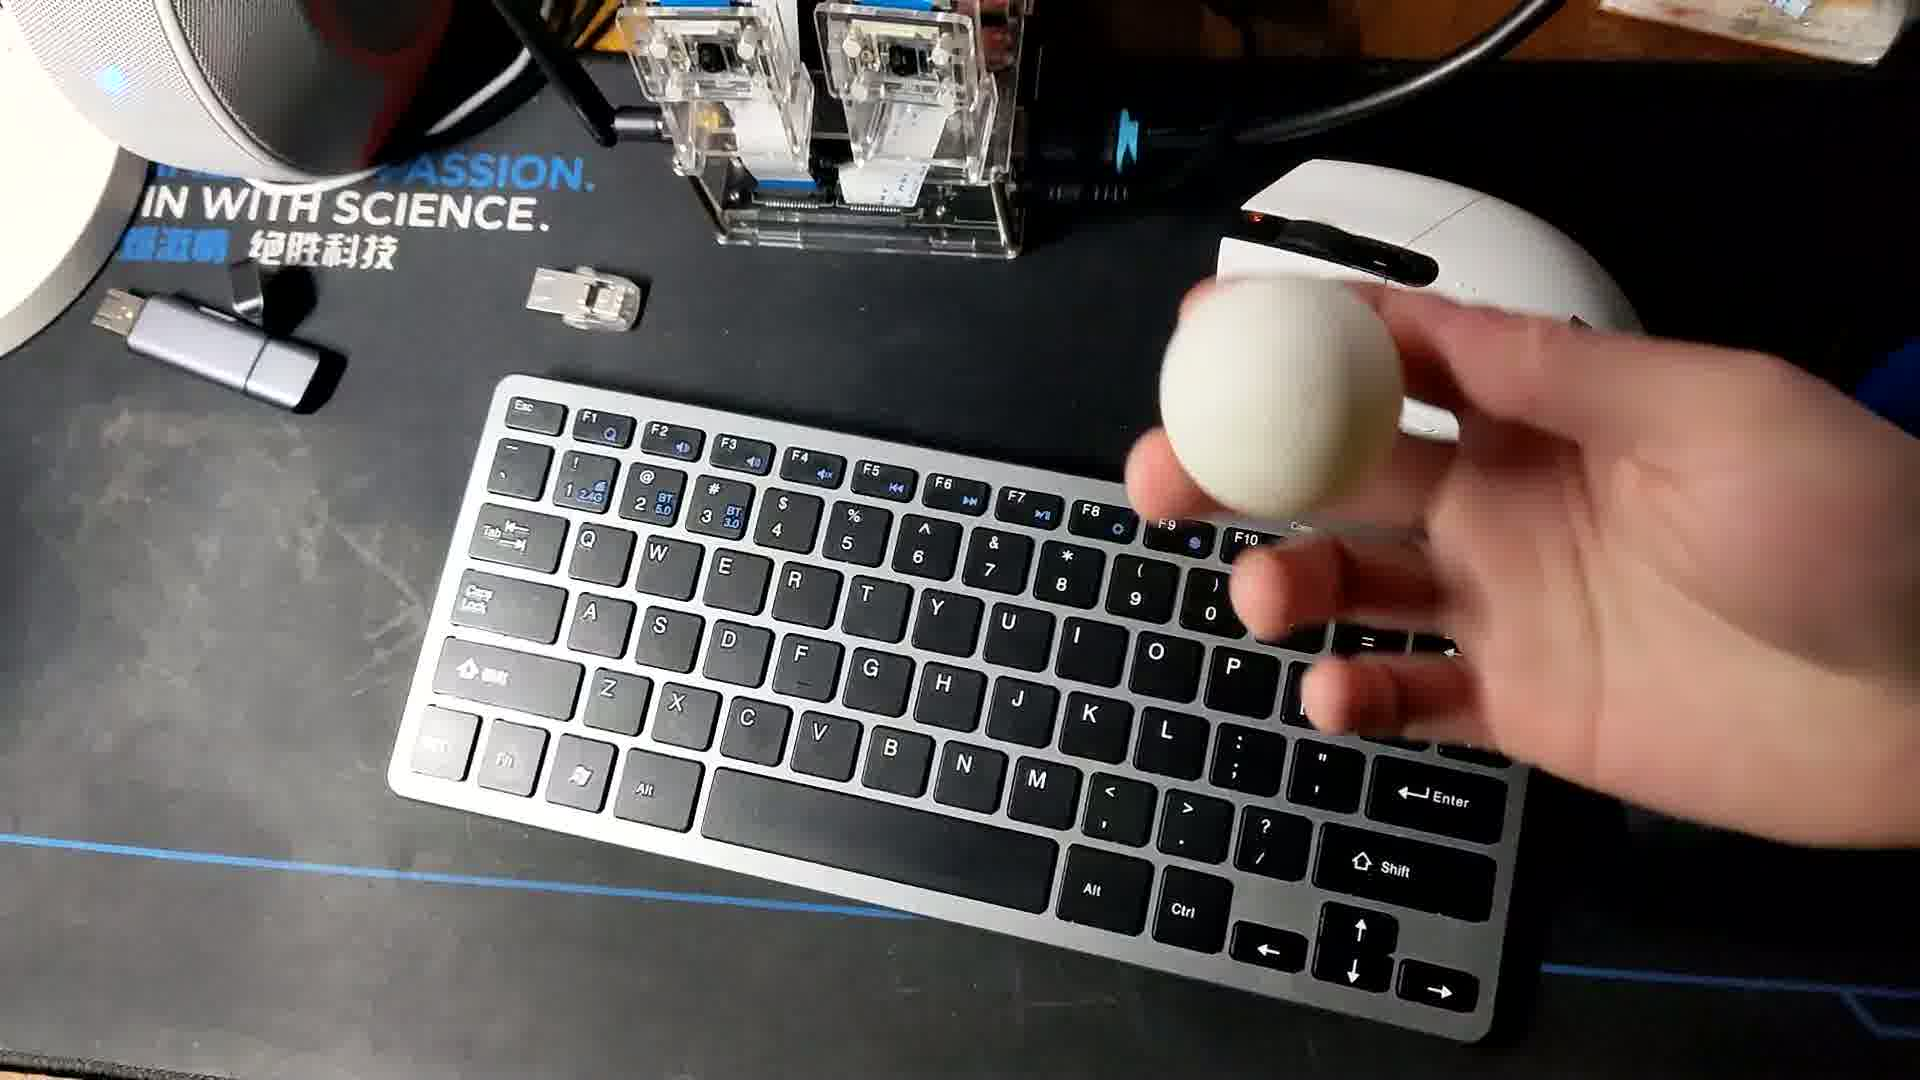Ball: (1158, 274, 1408, 526)
